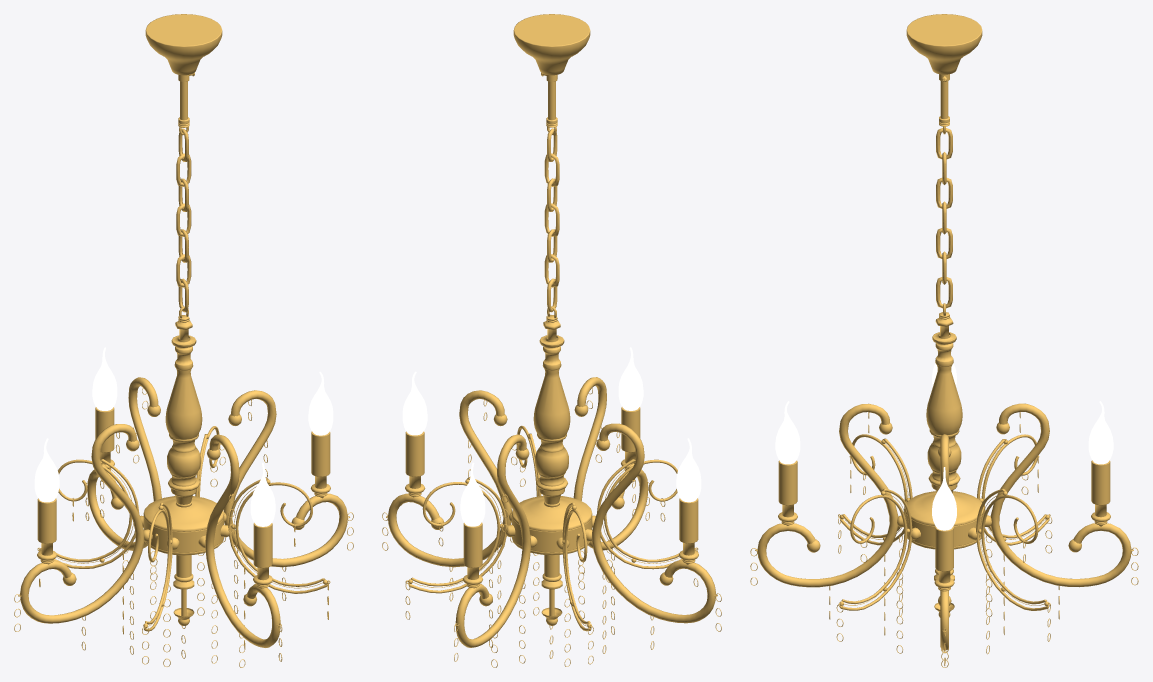
Rendered from Chandelier.glb.
3 renders of one model, left to right at view 1: azimuth 30°, elevation 25°; view 2: azimuth 150°, elevation 25°; view 3: azimuth 270°, elevation 25°, orthographic.
Visible parts, largest first — view 1: Cylinder128, Line020_Metal_Gold_Karat_0, Cylinder02_Metal_Gold_Karat_0, Line025, Line015, Line027, Line023, Line018, Line024, Line026, Cylinder136_Material #19_0, Cylinder154_Material #19_0 (+6 smaller); view 2: Cylinder128, Line020_Metal_Gold_Karat_0, Cylinder02_Metal_Gold_Karat_0, Line025, Line015, Line023, Line027, Line022, Line026, Line024, Cylinder160_Material #19_0, Cylinder136_Material #19_0 (+6 smaller); view 3: Cylinder128, Line027, Line023, Line020_Metal_Gold_Karat_0, Cylinder02_Metal_Gold_Karat_0, Line022, Line018, Line026, Line024, Cylinder148_Material #19_0, Cylinder160_Material #19_0, Cylinder136_Material #19_0 (+4 smaller).
Part boxes in pixels (<box>): Cylinder128: <box>145,14,222,340</box>; Line020_Metal_Gold_Karat_0: <box>165,335,202,504</box>; Cylinder02_Metal_Gold_Karat_0: <box>143,496,224,616</box>; Line025: <box>20,424,144,623</box>; Line015: <box>224,390,347,567</box>; Line027: <box>205,434,280,647</box>; Line023: <box>87,377,161,550</box>; Line018: <box>228,478,327,593</box>; Line024: <box>53,459,139,568</box>; Line026: <box>144,502,172,631</box>; Cylinder136_Material #19_0: <box>308,371,333,435</box>; Cylinder154_Material #19_0: <box>34,438,59,502</box>; Cylinder128: <box>513,14,590,339</box>; Line020_Metal_Gold_Karat_0: <box>533,335,570,504</box>; Cylinder02_Metal_Gold_Karat_0: <box>511,496,592,615</box>; Line025: <box>592,423,715,623</box>; Line015: <box>388,390,511,567</box>; Line023: <box>455,434,530,647</box>; Line027: <box>573,377,648,550</box>; Line022: <box>408,477,507,593</box>; Line026: <box>597,459,682,569</box>; Line024: <box>562,502,591,631</box>; Cylinder160_Material #19_0: <box>618,347,643,410</box>; Cylinder136_Material #19_0: <box>402,371,427,435</box>; Cylinder128: <box>906,14,982,336</box>; Line027: <box>757,403,898,587</box>; Line023: <box>990,403,1131,587</box>; Line020_Metal_Gold_Karat_0: <box>926,332,962,493</box>; Cylinder02_Metal_Gold_Karat_0: <box>904,491,984,580</box>; Line022: <box>976,488,1048,610</box>; Line018: <box>839,488,912,610</box>; Line026: <box>840,434,912,545</box>; Line024: <box>977,434,1049,545</box>; Cylinder148_Material #19_0: <box>1088,401,1113,464</box>; Cylinder160_Material #19_0: <box>775,401,800,464</box>; Cylinder136_Material #19_0: <box>932,467,956,530</box>.
Size of what is drawn, in the model's own units: 508 by 899 by 508.
